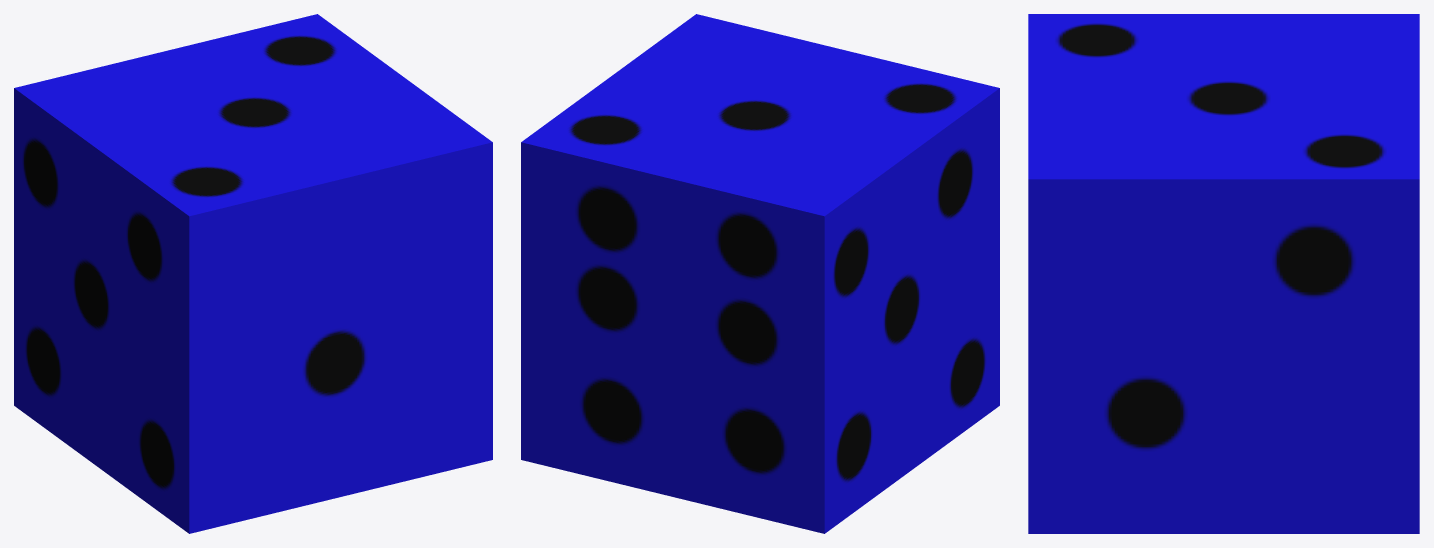
The model's file is Dice1.fbx.
3 renders of one model, left to right at view 1: azimuth 30°, elevation 25°; view 2: azimuth 150°, elevation 25°; view 3: azimuth 270°, elevation 25°, orthographic. The views are drawn at different scales.
Visible parts, largest first — view 1: pCube3; view 2: pCube3; view 3: pCube3.
Part boxes in pixels (x1,y1,x2,y2): pCube3: [14, 14, 492, 533]; pCube3: [521, 14, 999, 533]; pCube3: [1028, 14, 1419, 533].
Bounding box in the file's own units: 1 × 1 × 1.
Materials: 1 (1 with a texture image).
